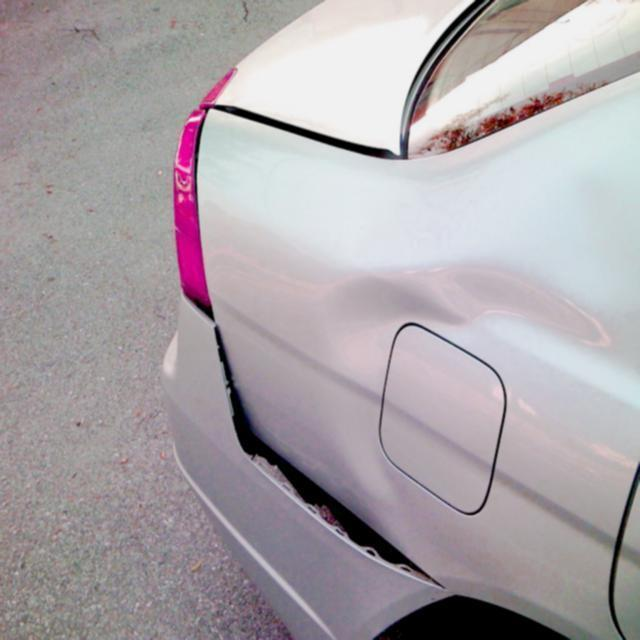minor: (212, 328, 442, 586), (312, 264, 604, 346), (328, 418, 400, 498)
